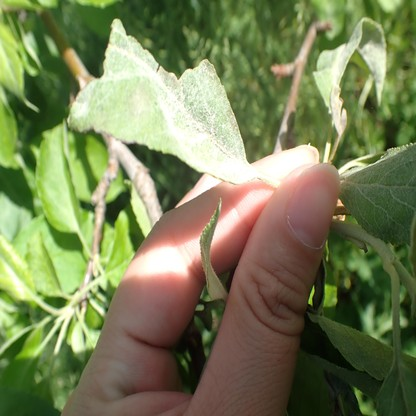powdery_mildew: (71, 16, 259, 185), (329, 18, 387, 137), (340, 144, 416, 228)
